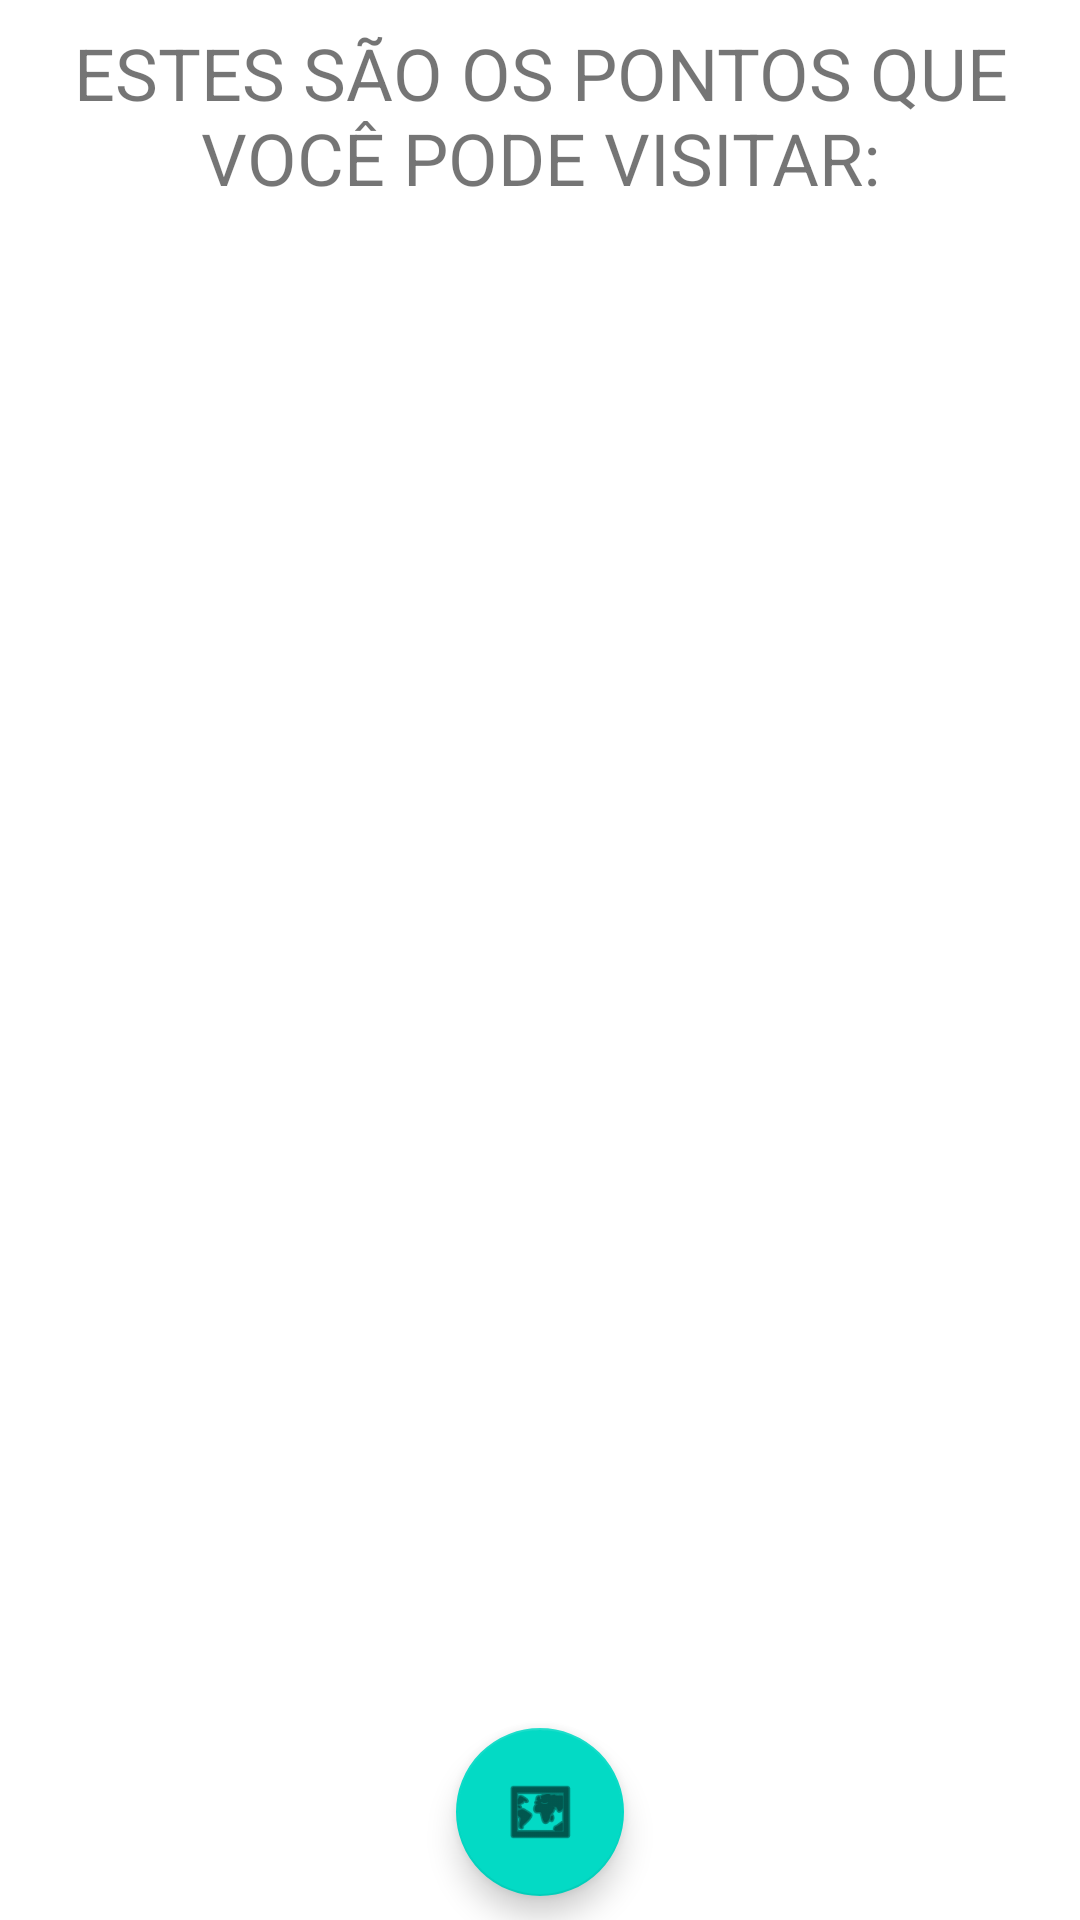

Icon bounding boxes for this 1080×1920 phone screenshot, format (x1,y1,x2,y2):
mapmode: (456,1728,624,1896)
